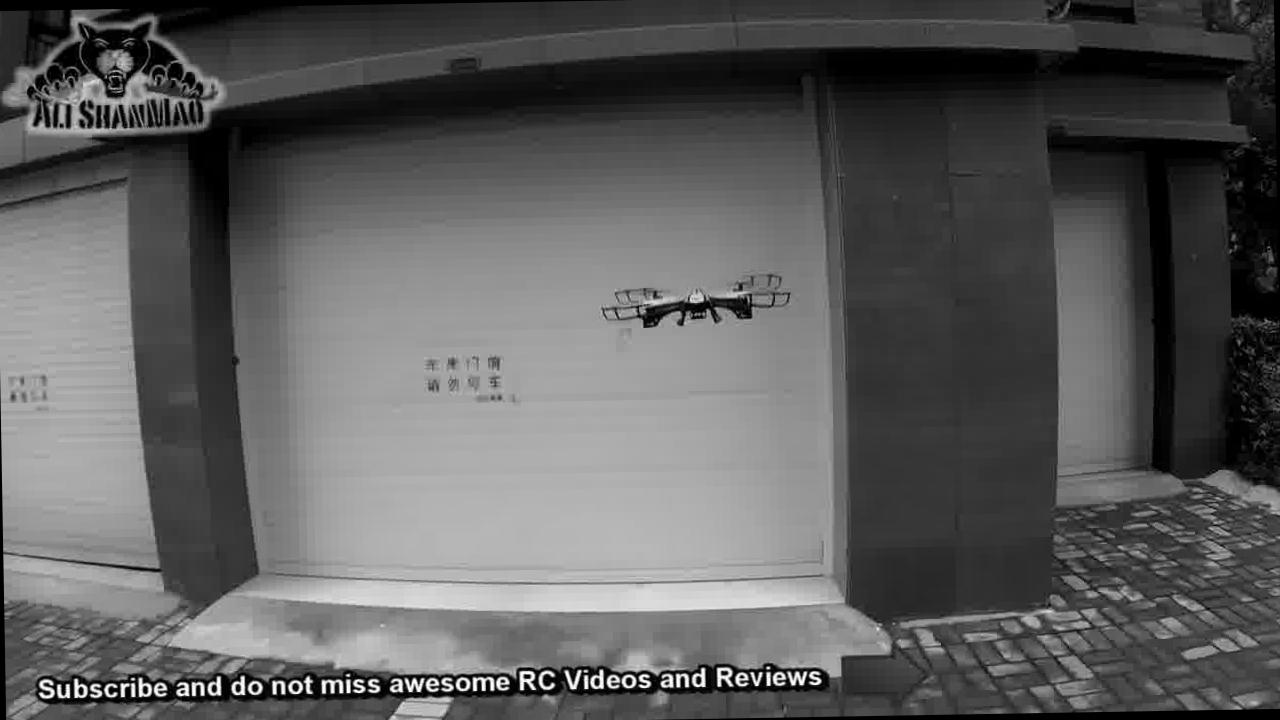drone: (590, 262, 808, 348)
